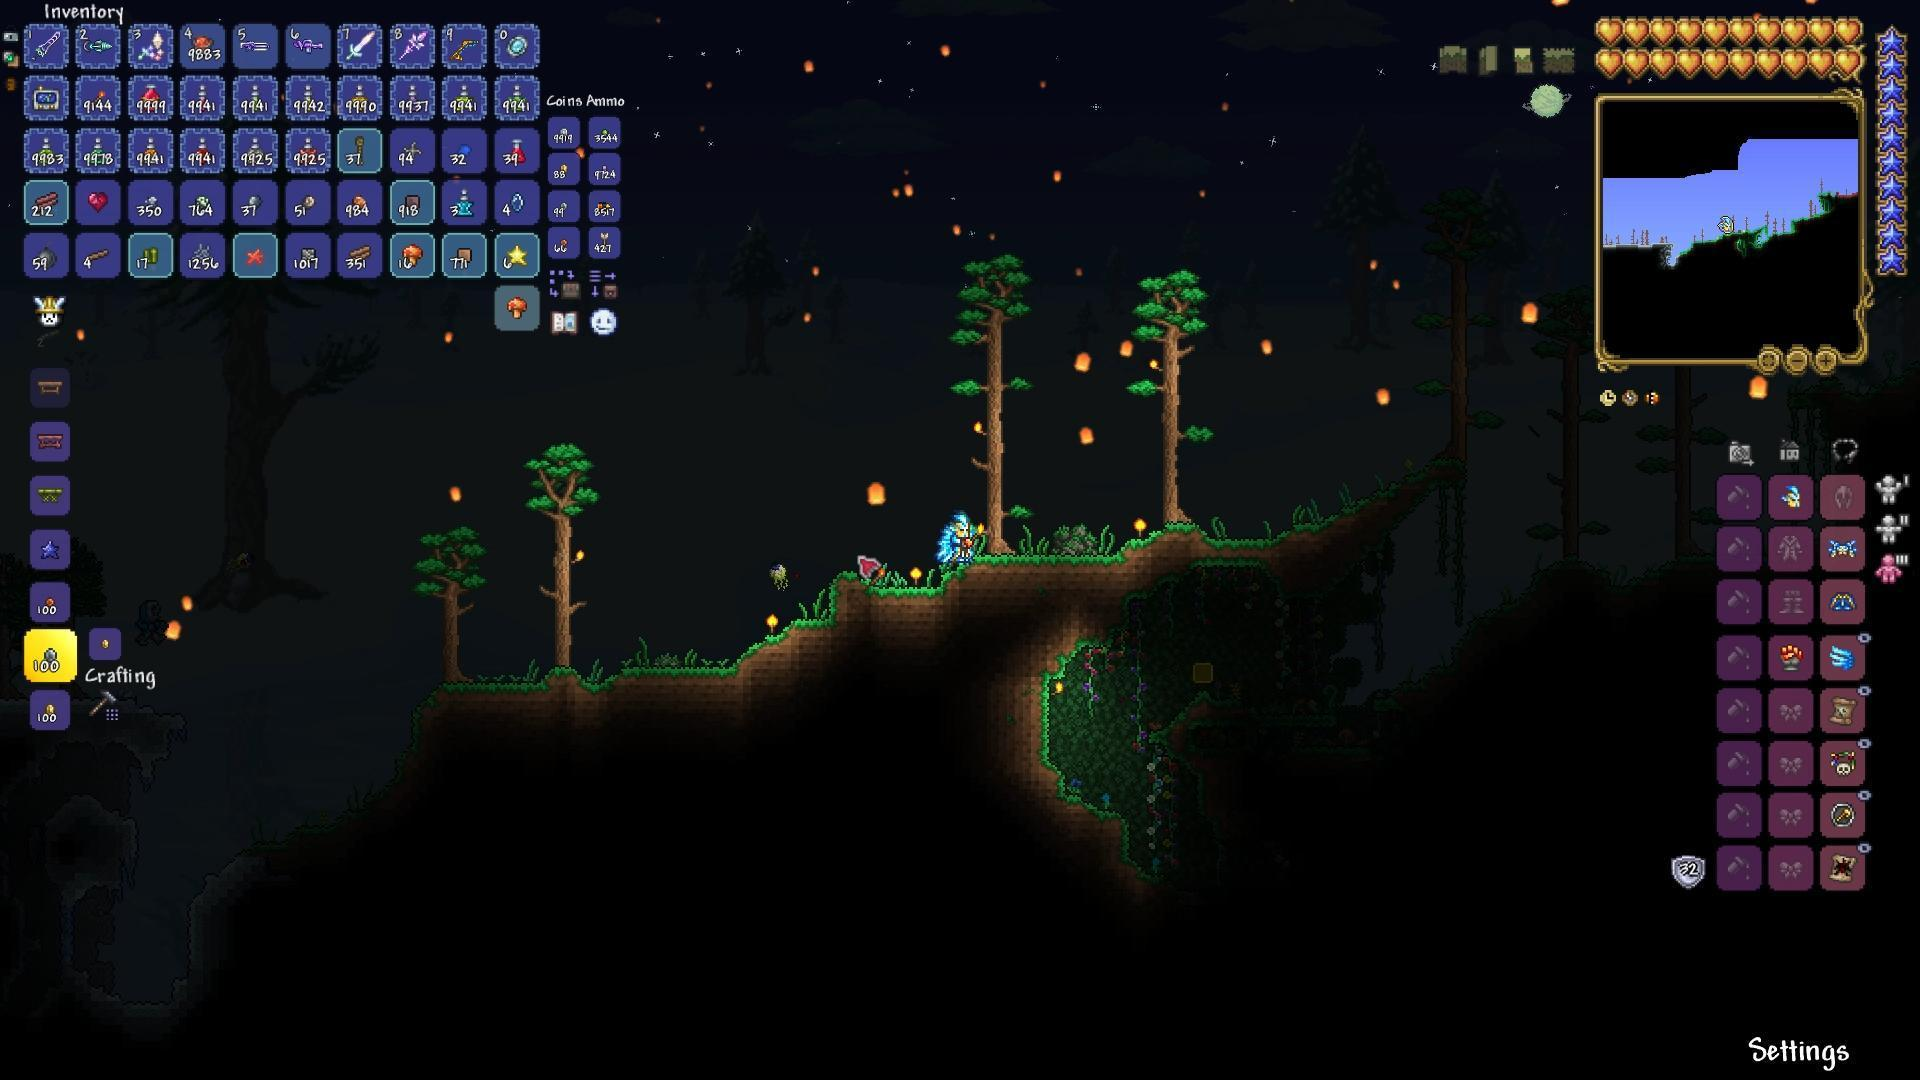eye: (766, 556, 790, 592)
mirror: (501, 33, 529, 61)
star: (508, 244, 529, 266)
